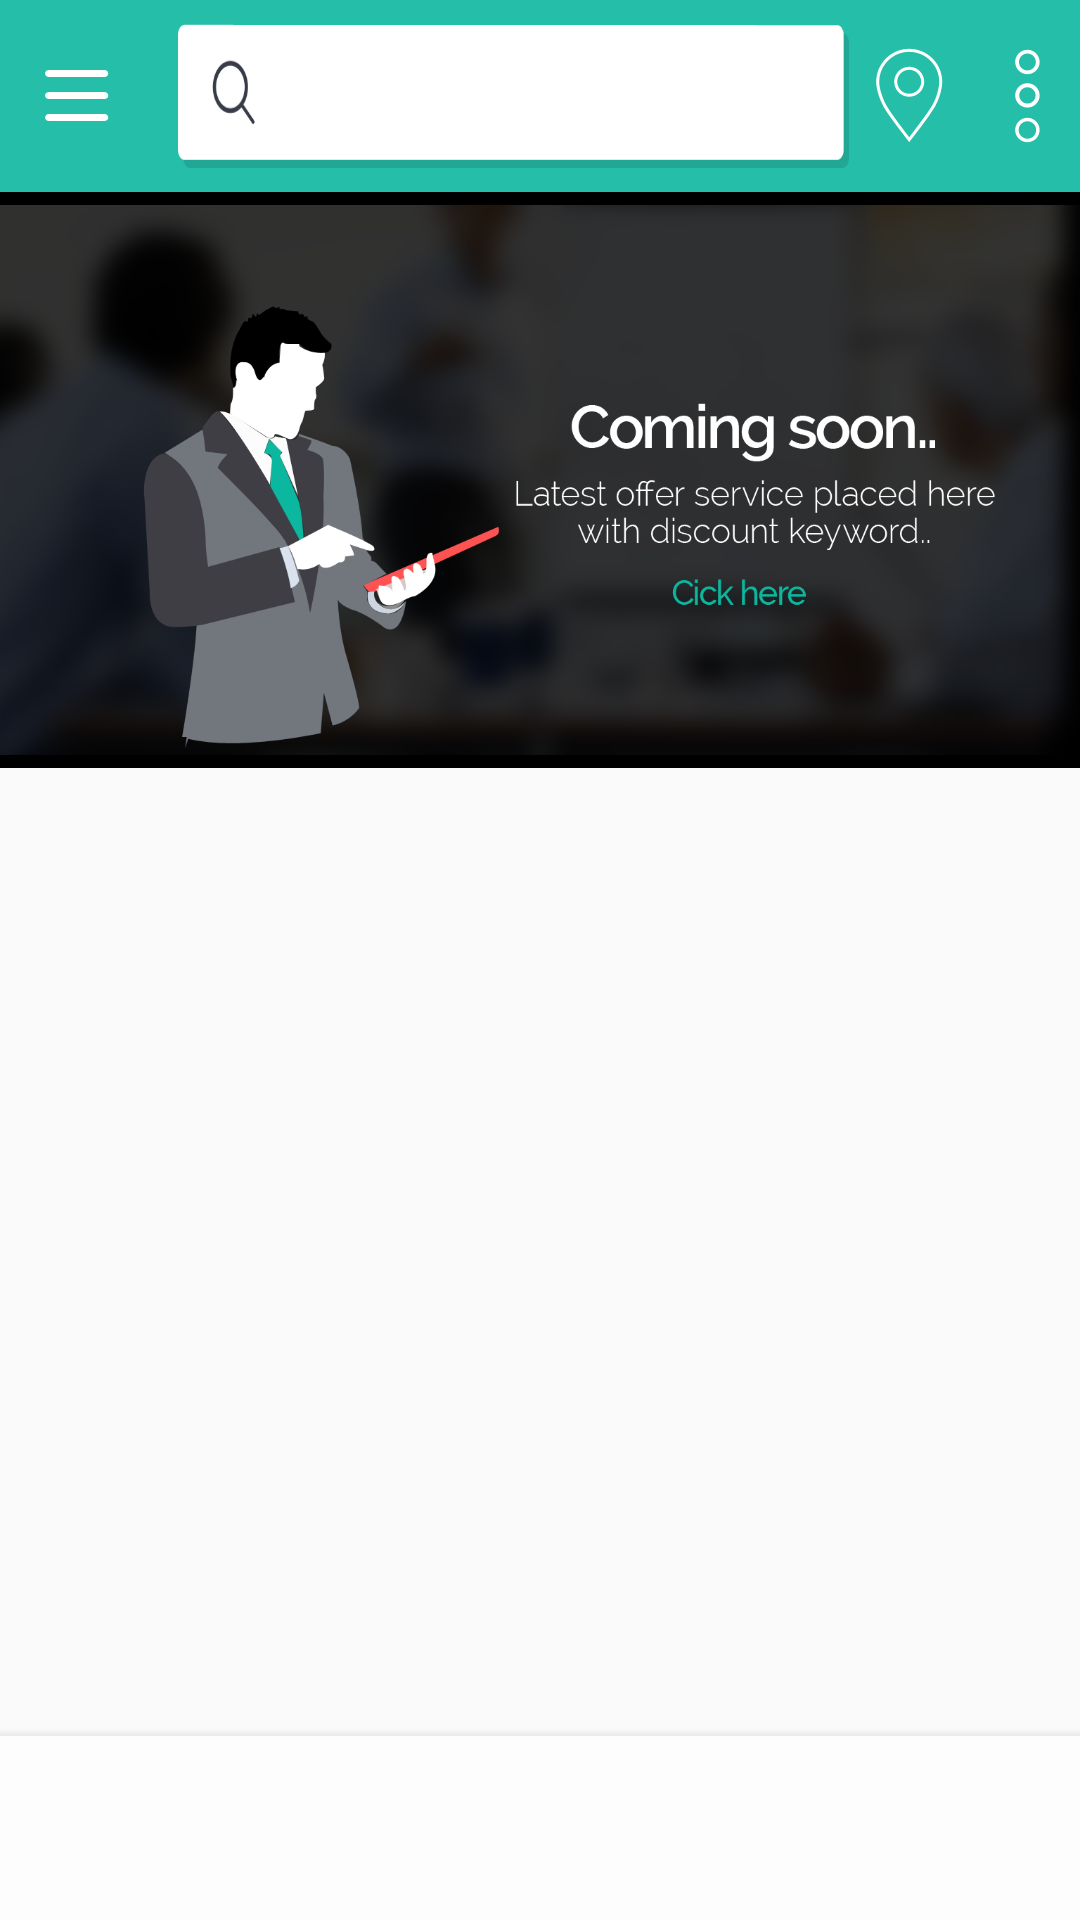

Where to tap for icons on this 1080*1920 app screen, as (x,y):
locationicn: (909,95)
moreicntop: (1027,96)
sidemenuicn: (77,95)
